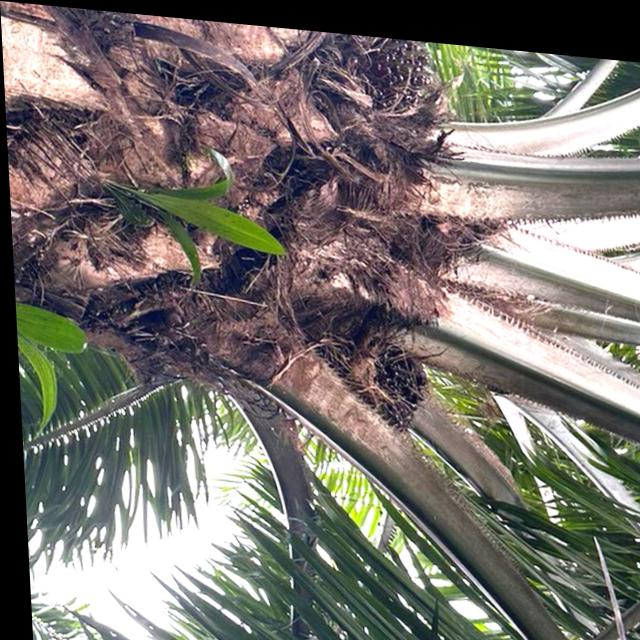unripe: (335, 314, 432, 439)
